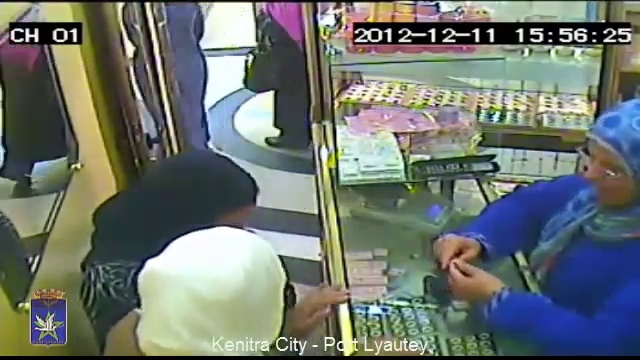face: (581, 141, 632, 204)
